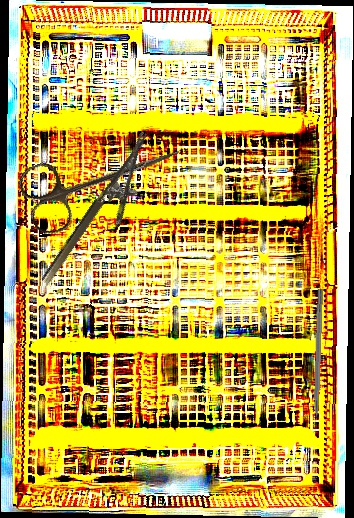Hook Surgical: (310, 288, 324, 435)
Iris Scissors: (14, 115, 191, 240)
Needle Holder: (38, 130, 172, 300)
